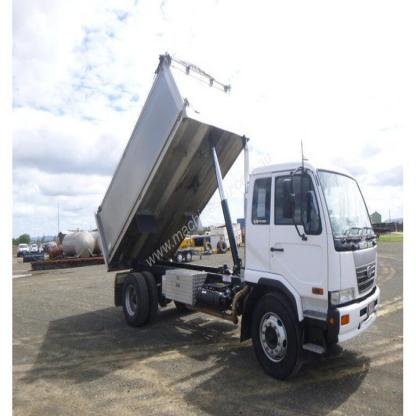dump_truck: (89, 46, 380, 378)
